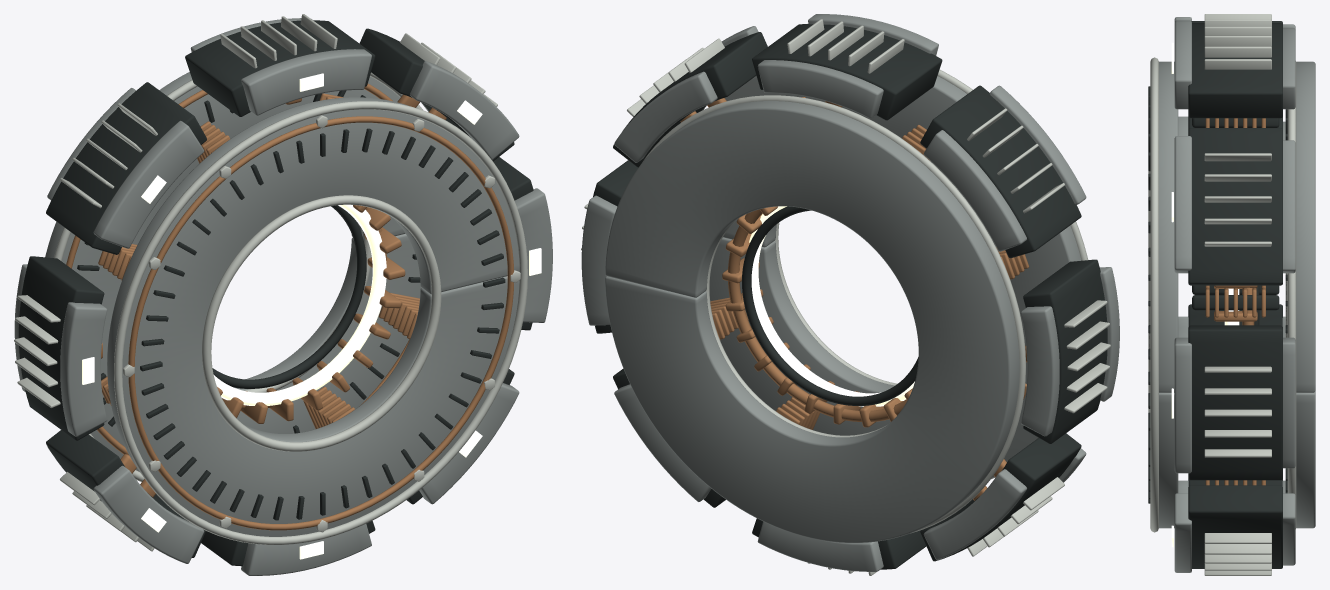
Rendered from the-core.glb.
3 views of the same model, side by side, from view 1: azimuth 30°, elevation 25°; view 2: azimuth 150°, elevation 25°; view 3: azimuth 270°, elevation 25° (orthographic).
Parts seen in each view (by area): view 1: Rotor_Front_Mesh, Stator_Rear_Mesh, Shell_03_Mesh, Shell_04_Mesh, Shell_02_Mesh, Induction_Ring_Mesh, Shell_05_Mesh, Shell_01_Mesh, Shell_06_Mesh, Shell_00_Mesh, Shell_07_Mesh, Coil_07_Mesh (+2 smaller); view 2: Stator_Rear_Mesh, Shell_03_Mesh, Rotor_Front_Mesh, Shell_04_Mesh, Shell_02_Mesh, Induction_Ring_Mesh, Shell_05_Mesh, Shell_01_Mesh, Shell_06_Mesh, Shell_00_Mesh, Shell_07_Mesh, Coil_07_Mesh (+1 smaller); view 3: Shell_01_Mesh, Shell_00_Mesh, Rotor_Front_Mesh, Shell_02_Mesh, Stator_Rear_Mesh, Shell_07_Mesh, Coil_00_Mesh, Shell_05_Mesh, Coil_02_Mesh, Induction_Ring_Mesh, Shell_03_Mesh, Shell_06_Mesh (+2 smaller).
Part boxes in pixels (<box>): Rotor_Front_Mesh: <box>107,97,527,544</box>; Stator_Rear_Mesh: <box>45,72,422,482</box>; Shell_03_Mesh: <box>46,82,206,254</box>; Shell_04_Mesh: <box>14,256,107,440</box>; Shell_02_Mesh: <box>185,14,375,116</box>; Induction_Ring_Mesh: <box>212,204,405,423</box>; Shell_05_Mesh: <box>46,430,205,563</box>; Shell_01_Mesh: <box>359,28,519,161</box>; Shell_06_Mesh: <box>201,520,375,575</box>; Shell_00_Mesh: <box>493,157,552,330</box>; Shell_07_Mesh: <box>406,369,519,504</box>; Coil_07_Mesh: <box>378,293,419,338</box>; Stator_Rear_Mesh: <box>605,95,1025,542</box>; Shell_03_Mesh: <box>920,85,1086,258</box>; Rotor_Front_Mesh: <box>709,69,1088,479</box>; Shell_04_Mesh: <box>1021,259,1119,443</box>; Shell_02_Mesh: <box>752,14,942,120</box>; Induction_Ring_Mesh: <box>722,206,918,427</box>; Shell_05_Mesh: <box>920,433,1086,561</box>; Shell_01_Mesh: <box>613,26,767,167</box>; Shell_06_Mesh: <box>752,518,926,575</box>; Shell_00_Mesh: <box>581,160,638,333</box>; Shell_07_Mesh: <box>613,368,725,507</box>; Coil_07_Mesh: <box>710,297,748,339</box>; Shell_01_Mesh: <box>1171,128,1295,285</box>; Shell_00_Mesh: <box>1171,325,1295,480</box>; Rotor_Front_Mesh: <box>1148,57,1178,532</box>; Shell_02_Mesh: <box>1171,19,1295,118</box>; Stator_Rear_Mesh: <box>1285,61,1315,528</box>; Shell_07_Mesh: <box>1171,485,1295,575</box>; Coil_00_Mesh: <box>1192,287,1279,317</box>; Shell_05_Mesh: <box>1178,304,1285,337</box>; Coil_02_Mesh: <box>1192,118,1279,127</box>; Induction_Ring_Mesh: <box>1214,285,1259,325</box>; Shell_03_Mesh: <box>1171,14,1295,50</box>; Shell_06_Mesh: <box>1178,478,1285,493</box>.
Bounding box in the file's own units: 4.58 × 4.58 × 1.34.
